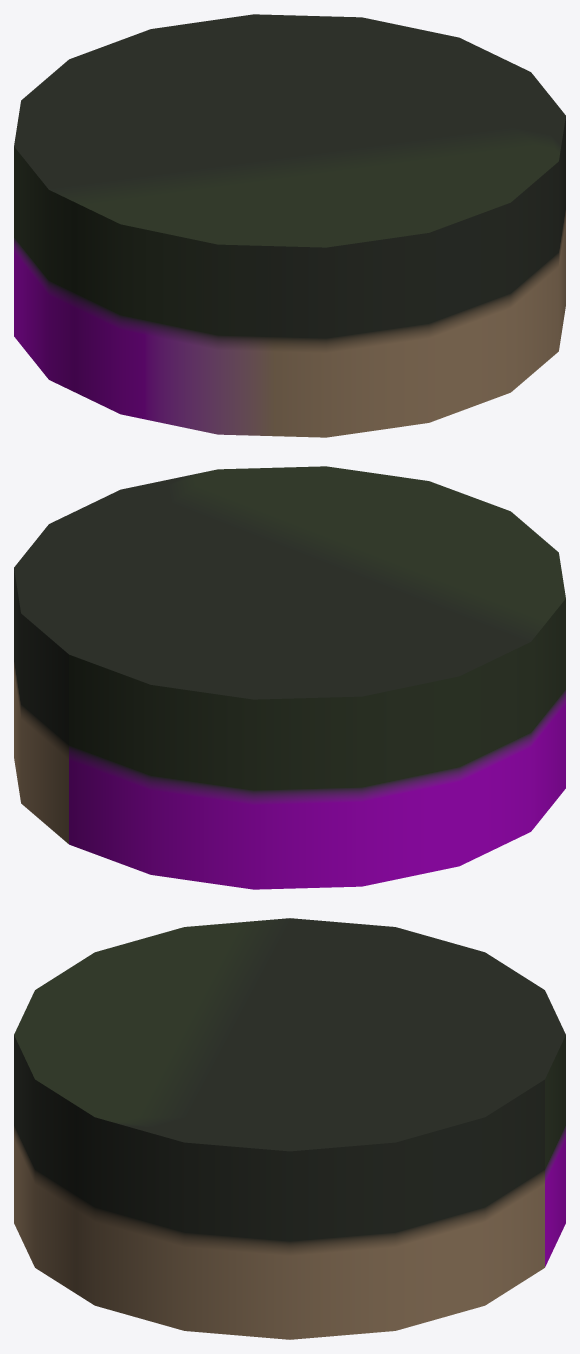
The model's file is forklift_wheel1_collisionbox.fbx.
3 views of the same model, one above another, from view 1: azimuth 30°, elevation 25°; view 2: azimuth 150°, elevation 25°; view 3: azimuth 270°, elevation 25° (orthographic).
Parts seen in each view (by area): view 1: forklift_wheel1_collisionbox; view 2: forklift_wheel1_collisionbox; view 3: forklift_wheel1_collisionbox.
Part boxes in pixels (x1=…): forklift_wheel1_collisionbox: x1=14, y1=14, x2=565, y2=437; forklift_wheel1_collisionbox: x1=14, y1=466, x2=565, y2=889; forklift_wheel1_collisionbox: x1=14, y1=918, x2=565, y2=1339.
Bounding box in the file's own units: 73.92 × 73.92 × 27.84.
